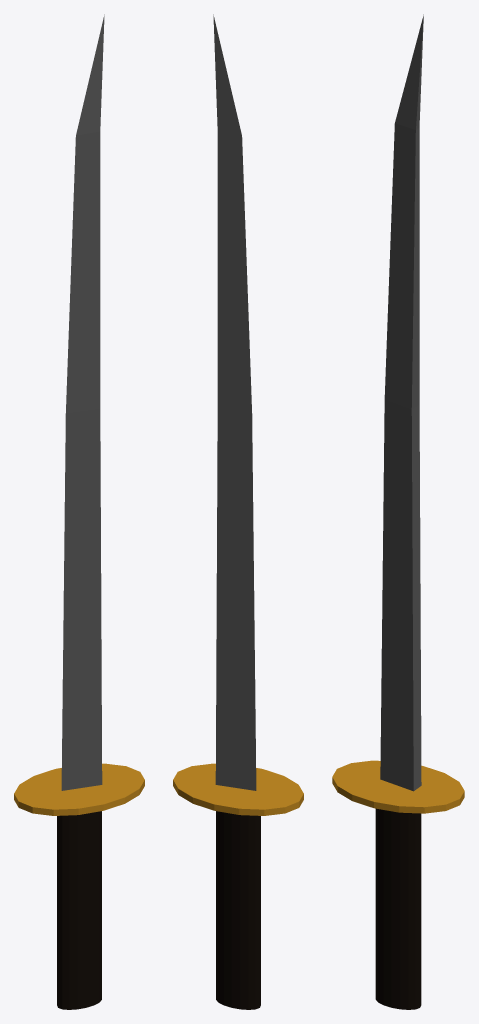
File: schwert.fbx
3 views of the same model, side by side, from view 1: azimuth 30°, elevation 25°; view 2: azimuth 150°, elevation 25°; view 3: azimuth 330°, elevation 25° (orthographic).
Visible parts, largest first — view 1: Schwert; view 2: Schwert; view 3: Schwert.
Boxes of the visible parts, x1,y1,x2,y2 form: Schwert: (14, 14, 144, 1009); Schwert: (173, 14, 303, 1009); Schwert: (332, 14, 464, 1009).
Bounding box in the file's own units: 400 × 3091 × 276.
